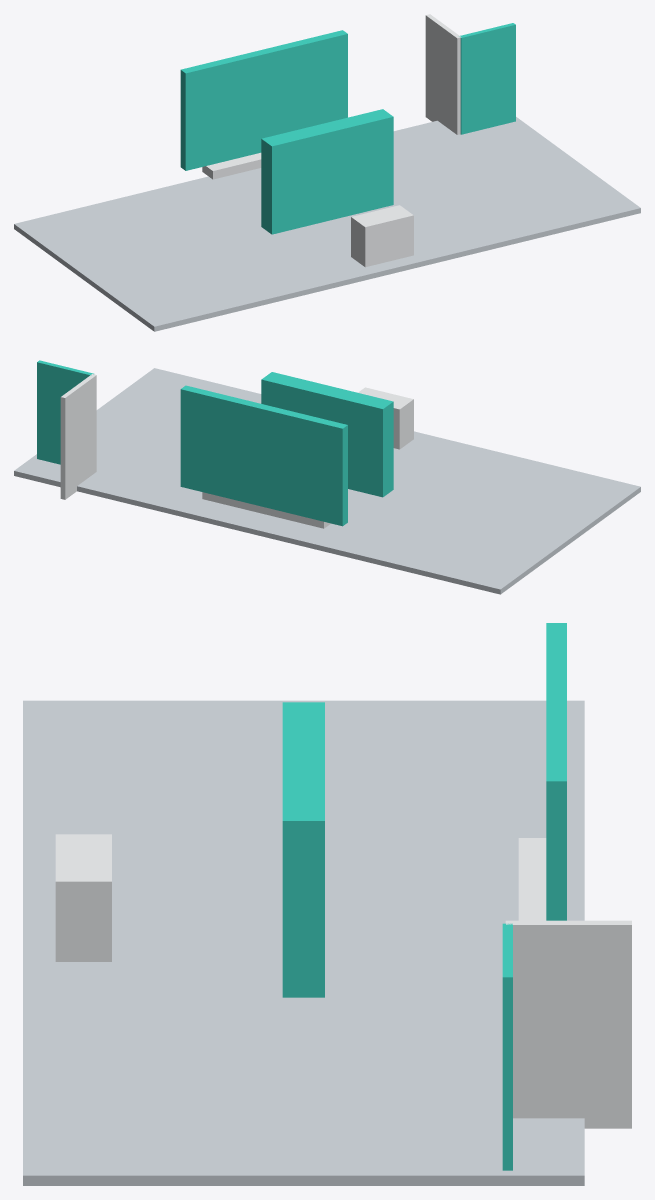
3 views of the same model, one above another, from view 1: azimuth 30°, elevation 25°; view 2: azimuth 150°, elevation 25°; view 3: azimuth 270°, elevation 25° (orthographic). The views are drawn at different scales.
Visible parts, largest first — view 1: Exhibition Booth Concept; view 2: Exhibition Booth Concept; view 3: Exhibition Booth Concept.
Boxes of the visible parts, x1,y1,x2,y2 form: Exhibition Booth Concept: [14, 14, 640, 331]; Exhibition Booth Concept: [14, 360, 640, 594]; Exhibition Booth Concept: [23, 623, 631, 1185].
Size of the model in its own units: 12 by 2.9 by 6.51.
